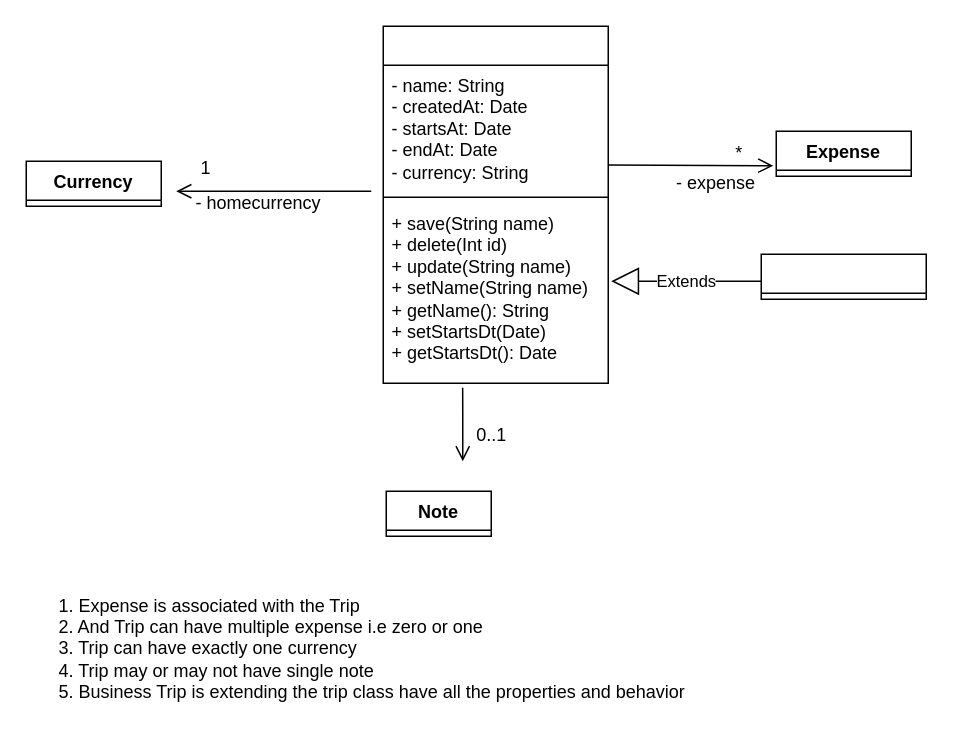
This 953x729 diagram has some shape labels left out. Each missing label, with the box of its shape:
BusinessTrip: (760, 253, 926, 299)
Trip: (382, 25, 608, 383)
